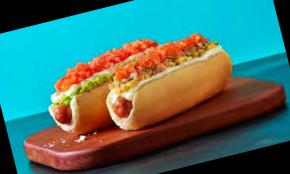Completos: (28, 29, 190, 144), (102, 26, 240, 135)
